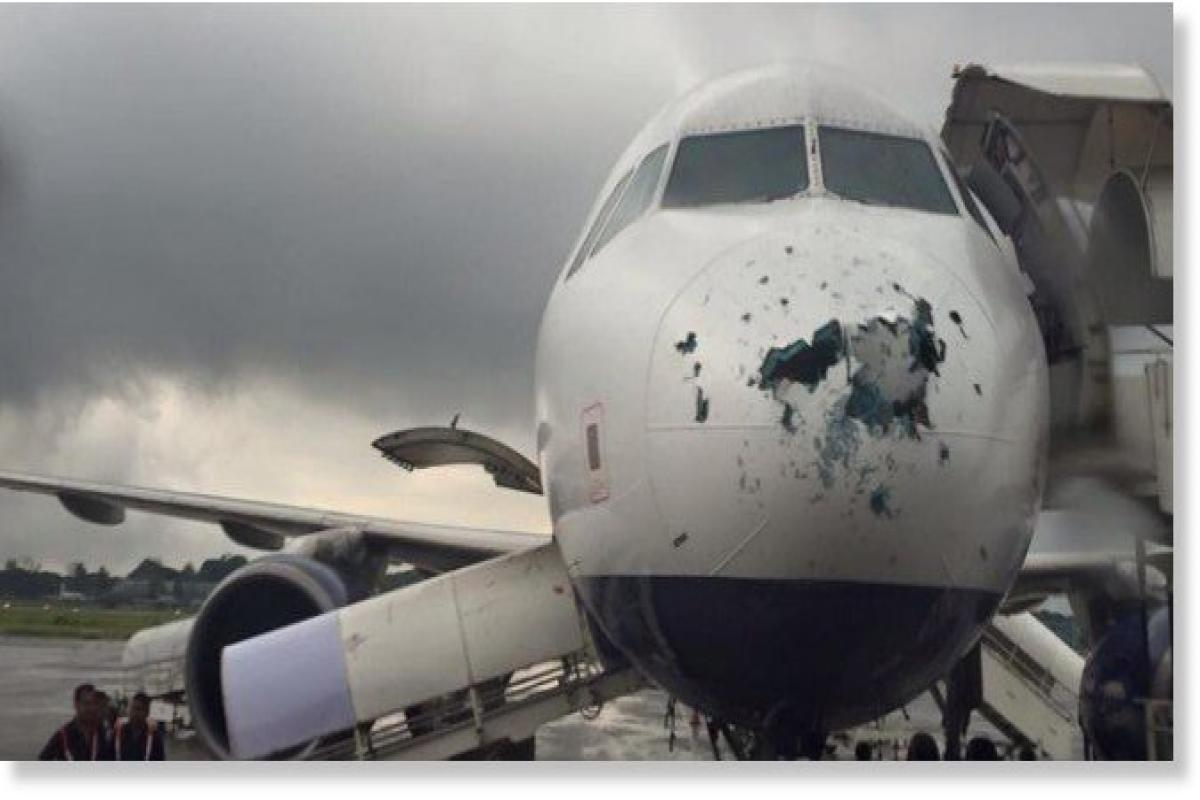Fuselage_damage: (669, 236, 996, 553)
